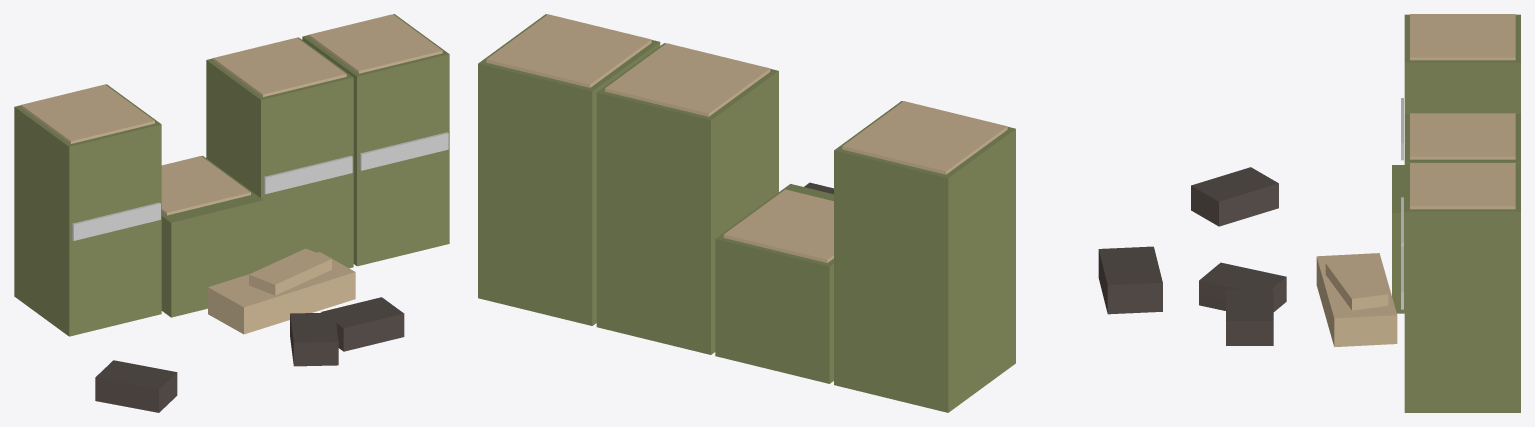
File: SM_HescoCorto4_v0_MallaLimpia_e1_Danado_LOD1.fbx
3 views of the same model, side by side, from view 1: azimuth 30°, elevation 25°; view 2: azimuth 150°, elevation 25°; view 3: azimuth 270°, elevation 25° (orthographic). The views are drawn at different scales.
Visible parts, largest first — view 1: SM_hesco_piezas_v101_LOD1; view 2: SM_hesco_piezas_v101_LOD1; view 3: SM_hesco_piezas_v101_LOD1.
Part boxes in pixels (x1=…): SM_hesco_piezas_v101_LOD1: x1=14, y1=14, x2=449, y2=412; SM_hesco_piezas_v101_LOD1: x1=478, y1=14, x2=1162, y2=412; SM_hesco_piezas_v101_LOD1: x1=1191, y1=14, x2=1520, y2=412.
Size of the model in its own units: 4.94 by 2.13 by 3.12.
